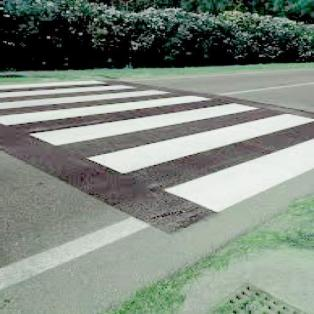Paso de Cebra: (2, 86, 264, 150)
